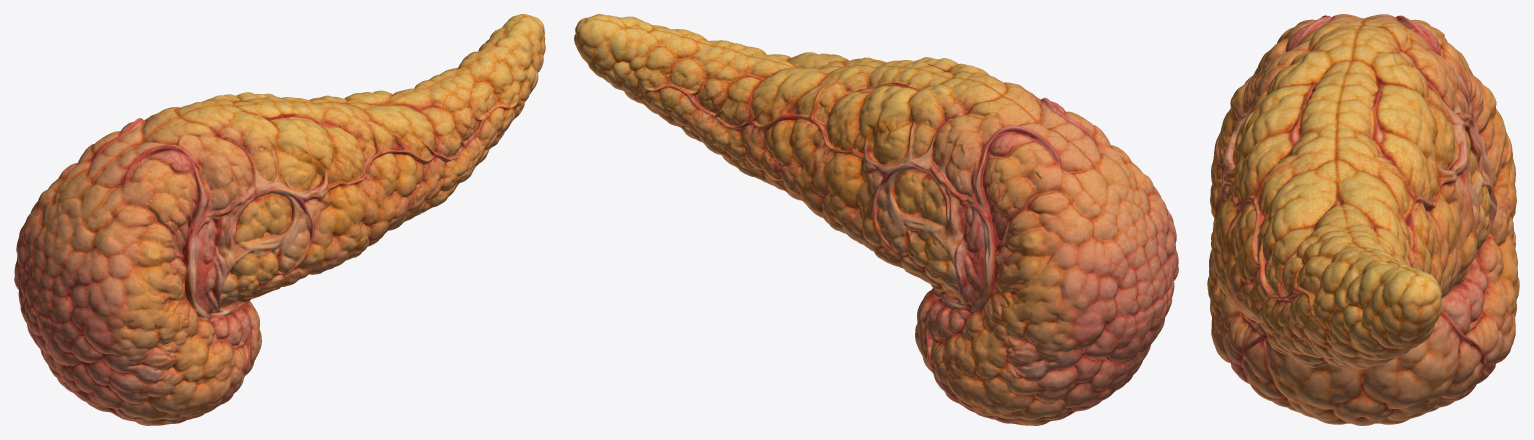
File: organ-pancreas-interactive-lod.glb
3 renders of one model, left to right at view 1: azimuth 30°, elevation 25°; view 2: azimuth 150°, elevation 25°; view 3: azimuth 270°, elevation 25°, orthographic. The views are drawn at different scales.
Parts seen in each view (by area): view 1: tripo_node_28f9ac4d-a7ee-4a69-acaa-c6201ef7be03; view 2: tripo_node_28f9ac4d-a7ee-4a69-acaa-c6201ef7be03; view 3: tripo_node_28f9ac4d-a7ee-4a69-acaa-c6201ef7be03.
Boxes of the visible parts, bbox=[...] form: tripo_node_28f9ac4d-a7ee-4a69-acaa-c6201ef7be03: bbox=[14, 14, 545, 425]; tripo_node_28f9ac4d-a7ee-4a69-acaa-c6201ef7be03: bbox=[574, 14, 1178, 425]; tripo_node_28f9ac4d-a7ee-4a69-acaa-c6201ef7be03: bbox=[1207, 14, 1519, 425].
Size of the model in its own units: 32125 by 17113 by 11845.
Materials: 1 (1 with a texture image).
